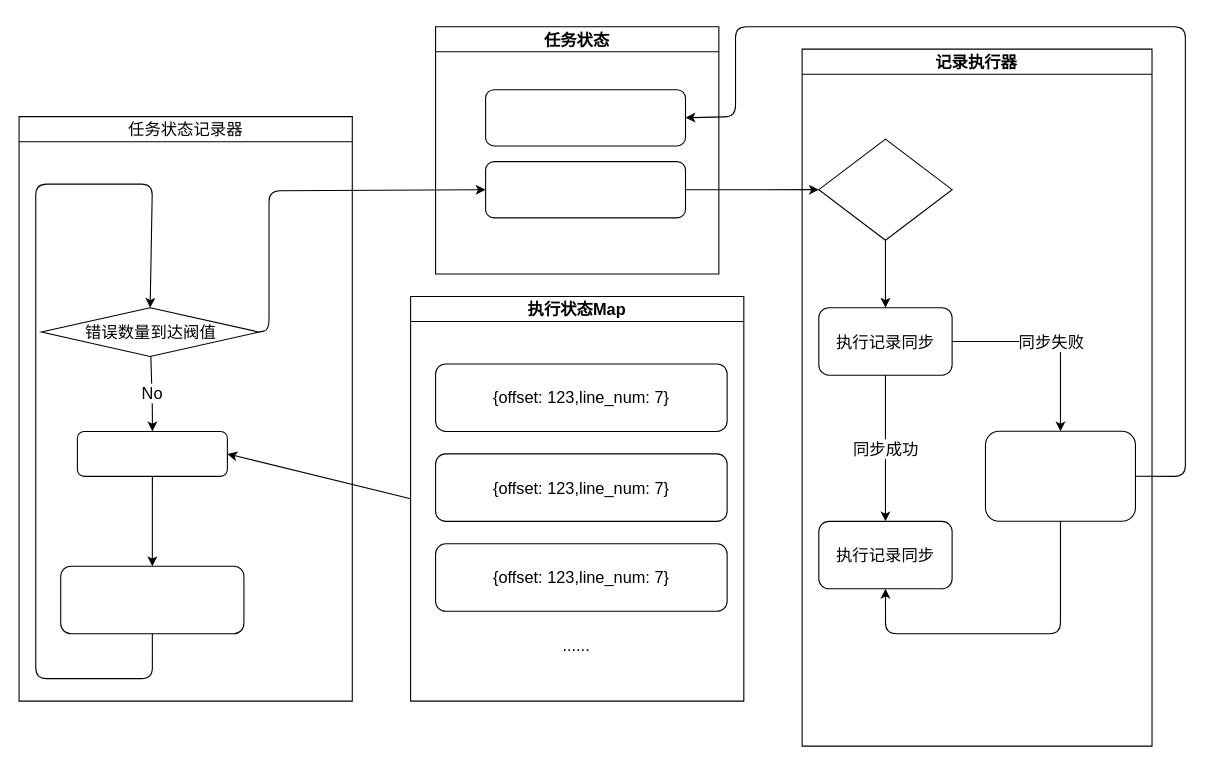
This 1213x765 diagram has some shape labels left out. The centre of each missing label's shape, as x and y in pixels:
任务未结束: point (885, 189)
任务结束标记: point (585, 189)
计算offset最小值: point (151, 453)
记录checkpoint文件: point (152, 599)
错误计数器: point (585, 117)
错误记录 增加错误记录数: point (1059, 475)
